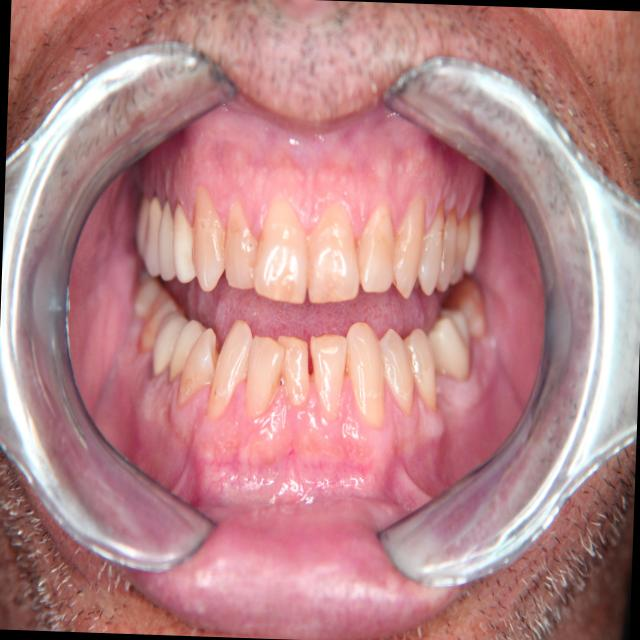tooth: (248, 192, 313, 310), (301, 194, 365, 308), (202, 313, 260, 426), (338, 315, 393, 433), (183, 174, 232, 296), (383, 181, 430, 301), (373, 322, 424, 424), (419, 298, 475, 387), (240, 328, 289, 425), (397, 319, 444, 420), (353, 195, 399, 297), (176, 319, 226, 412), (305, 327, 351, 425), (271, 327, 319, 411), (221, 192, 260, 293), (148, 301, 194, 382), (135, 284, 183, 358), (412, 197, 447, 298), (443, 267, 490, 340), (165, 315, 209, 386), (169, 198, 200, 288), (432, 200, 460, 297), (154, 194, 183, 285), (140, 192, 167, 283), (127, 258, 165, 320), (447, 201, 474, 288), (462, 195, 485, 281), (130, 192, 153, 263)
